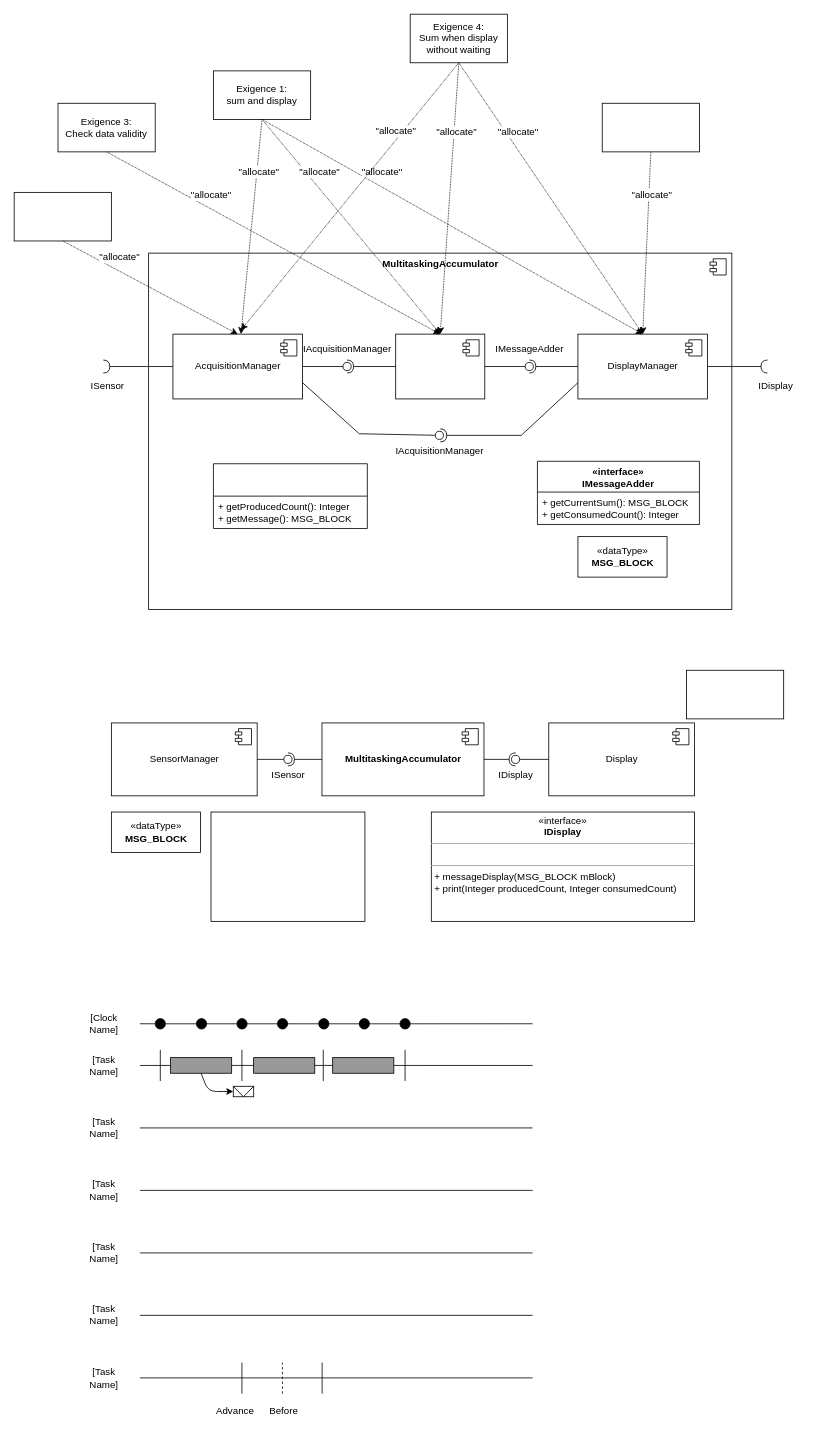
Some shapes in this 823 by 1438 pixel diagram are drawn without their labels. Each missing label, with the box of its shape:
Exigence 2: Read all input: (13, 192, 111, 241)
Exigence 5: print asynchronously: (686, 669, 784, 719)
Exigence 5: print diag: (601, 102, 699, 152)
MessageAdder: (395, 333, 485, 399)
«interface» IAcquisitionManager: (213, 463, 367, 529)
«interface» ISensor + getInput(int i): MSG_BLOCK: (210, 811, 365, 921)
